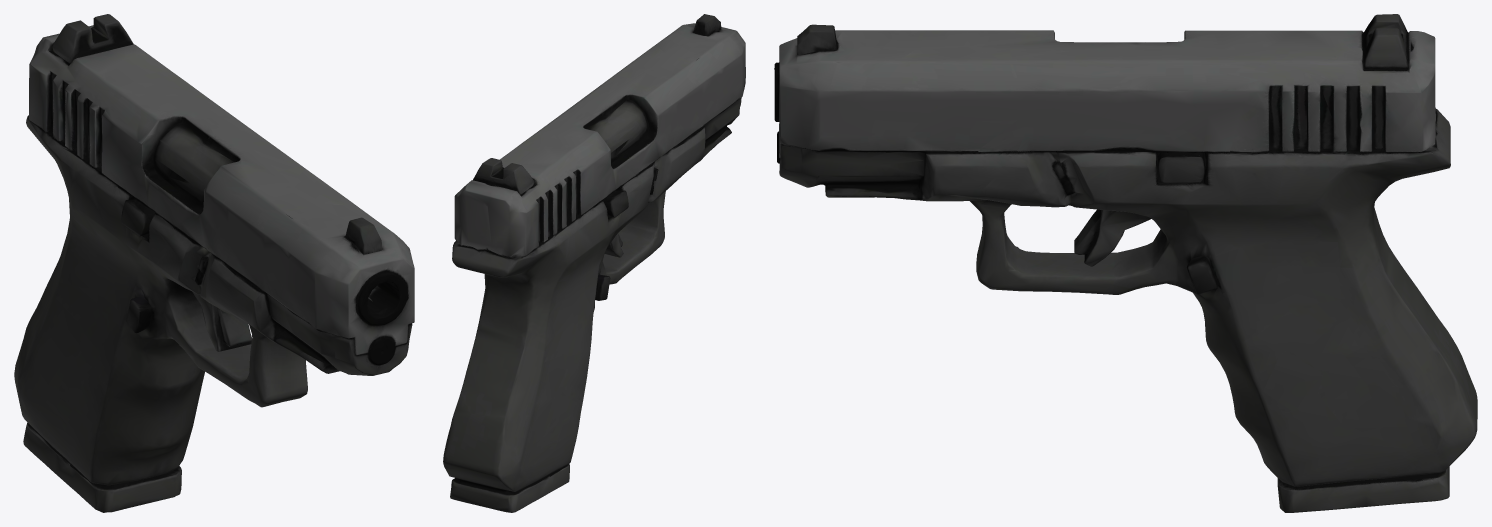
The model's file is h1_compact.glb.
3 renders of one model, left to right at view 1: azimuth 30°, elevation 25°; view 2: azimuth 150°, elevation 25°; view 3: azimuth 270°, elevation 25°, orthographic. The views are drawn at different scales.
Parts seen in each view (by area): view 1: body; view 2: body; view 3: body.
Part boxes in pixels (left/top/right/bottom): body: left=14, top=14, right=414, bottom=512; body: left=443, top=14, right=745, bottom=512; body: left=774, top=14, right=1477, bottom=512.
Bounding box in the file's own units: 0.0386 × 0.1369 × 0.186.
Materials: 1 (1 with a texture image).
